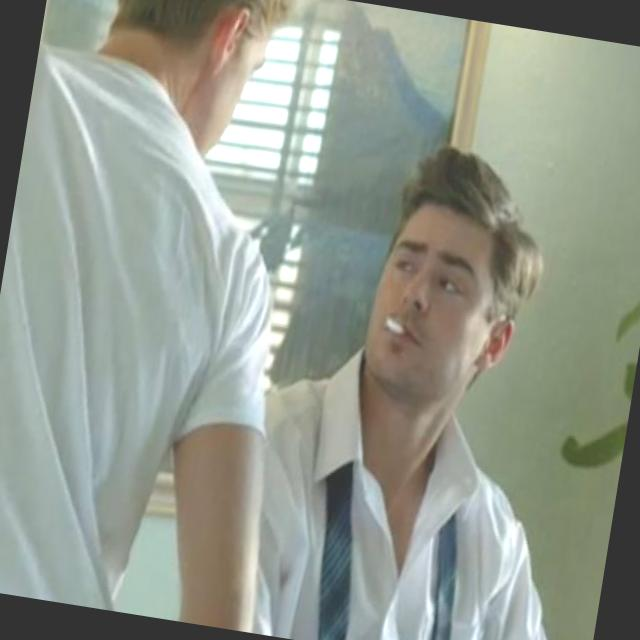smoke: (366, 299, 419, 346)
